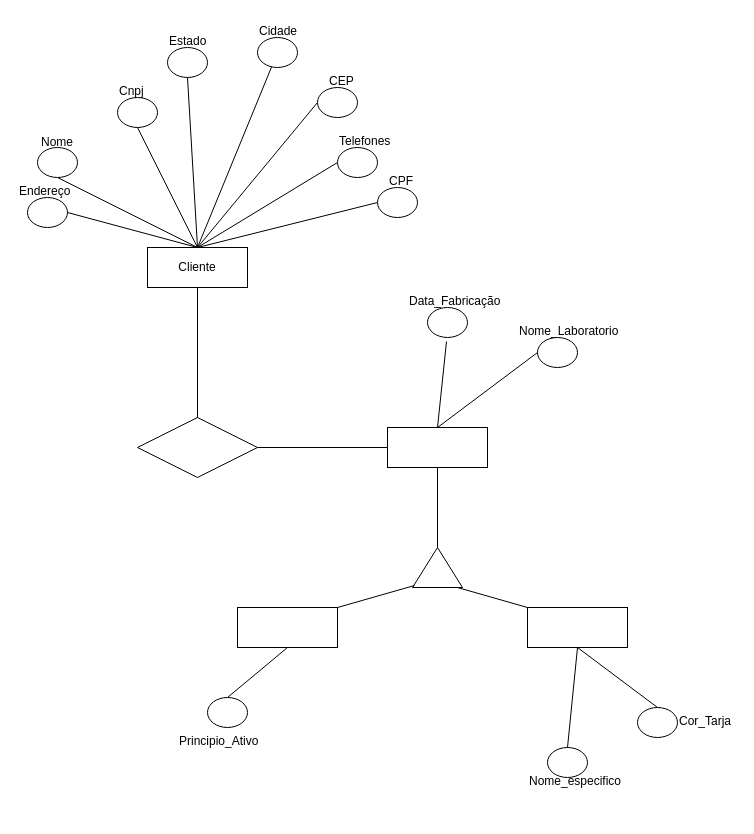
Image size: 754x834. Some labels were removed from this diagram. Each missing label, with the centre of its shape:
Generico: point 287,627
Marca: point 577,627
Medicamento: point 437,447
Solicita: point 197,447
